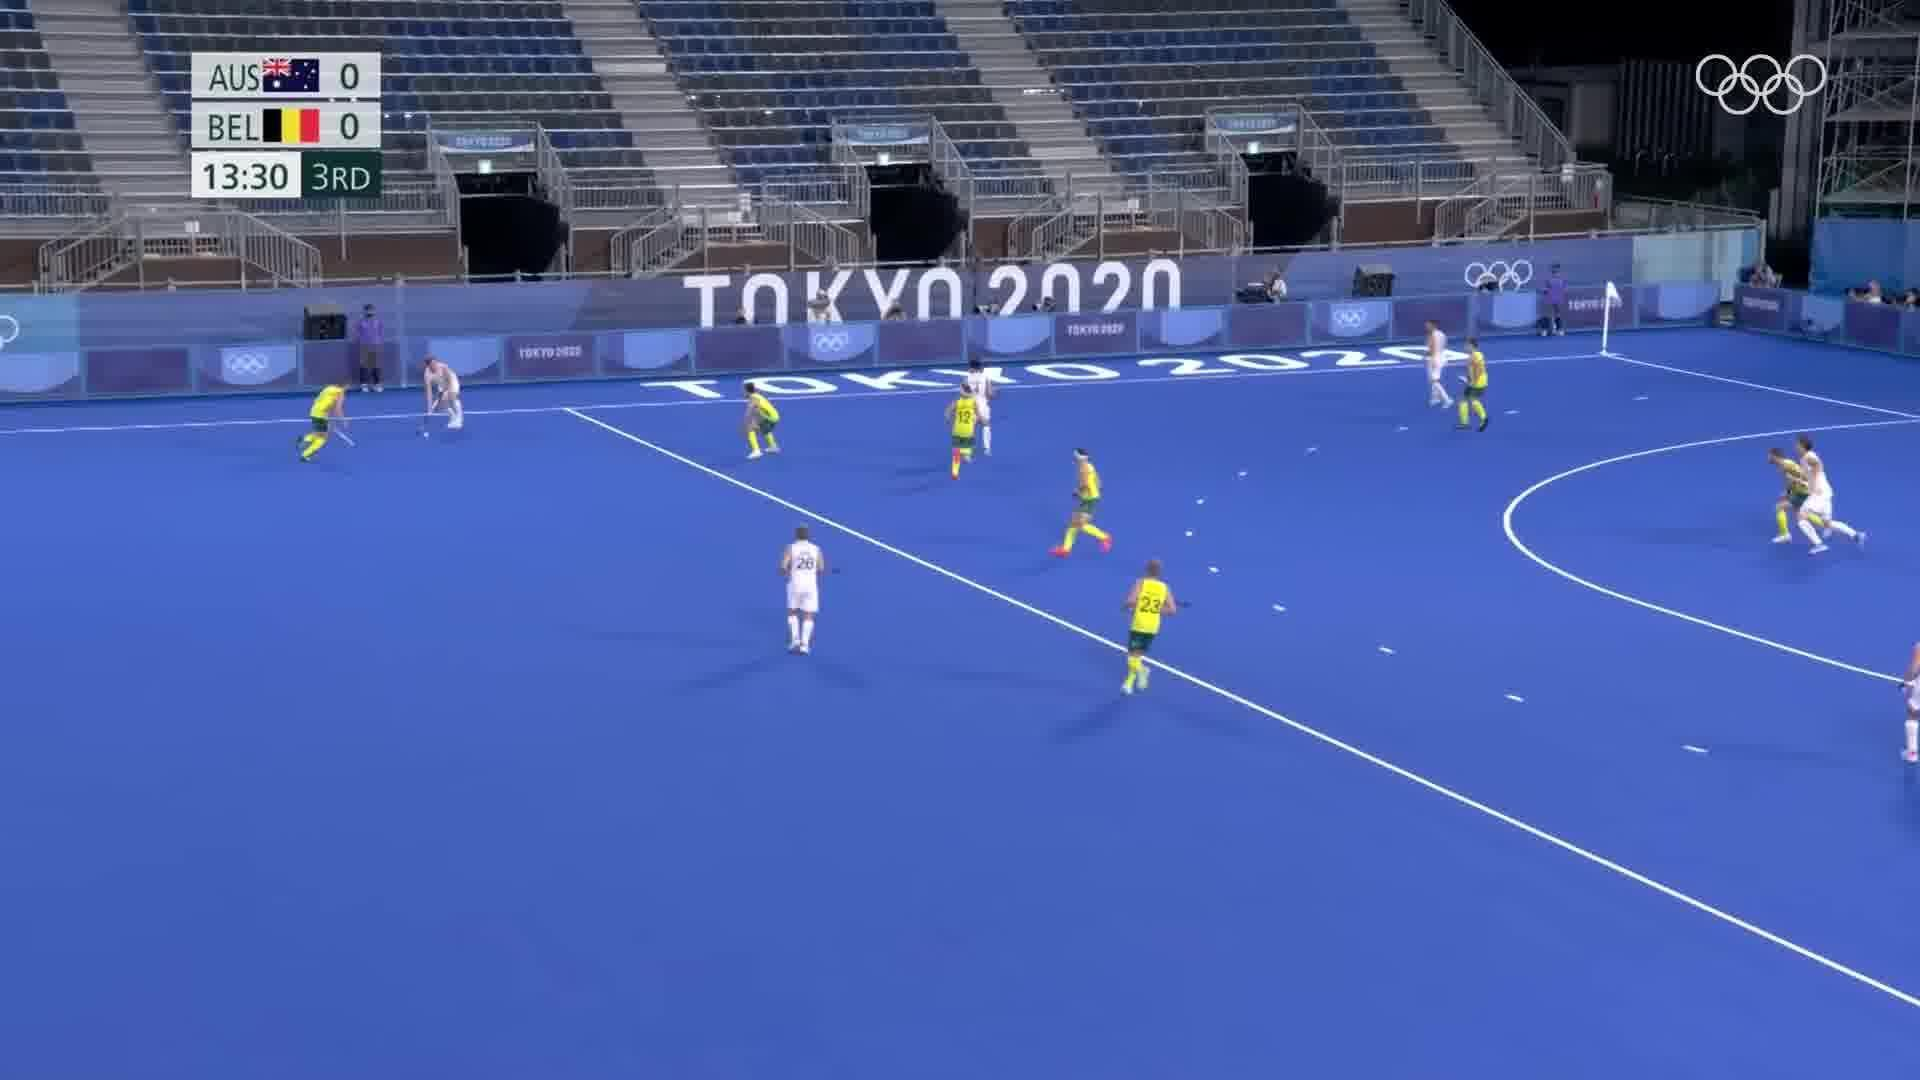ball: (418, 428, 434, 443)
